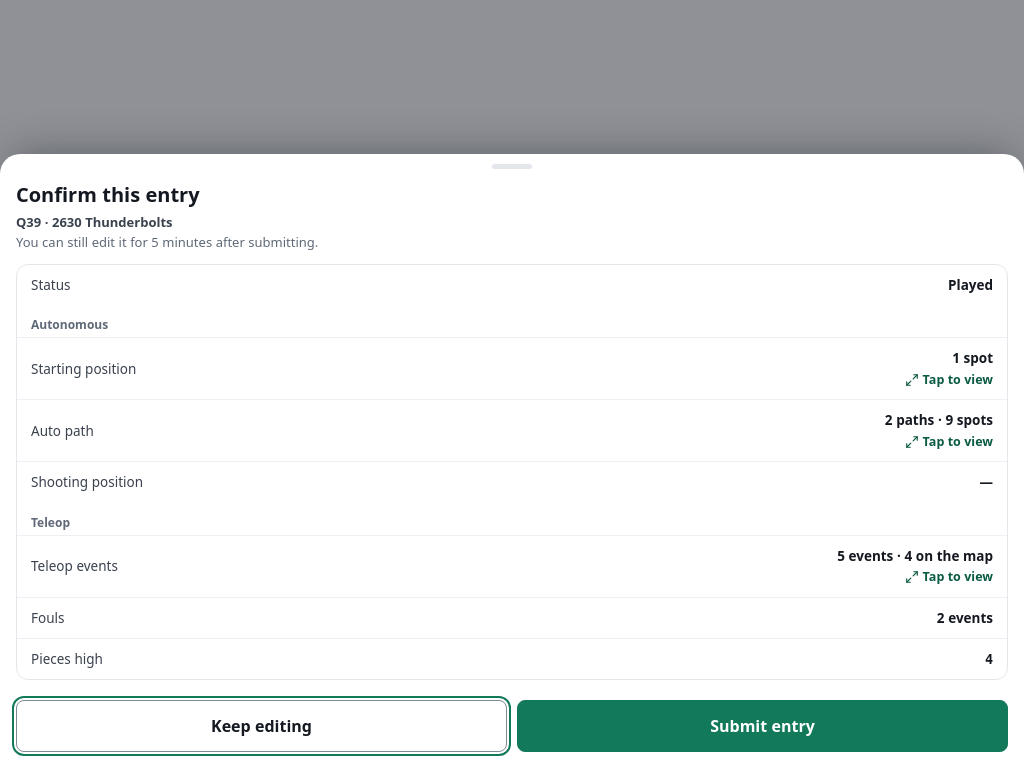
ConfirmEntry: the map, view only (UF.24) › a phone draws it full screen, the own end at the bottom, as editing does
Click the button with aria-label "Teleop events: ": (74, 566) [17, 536, 1007, 596]
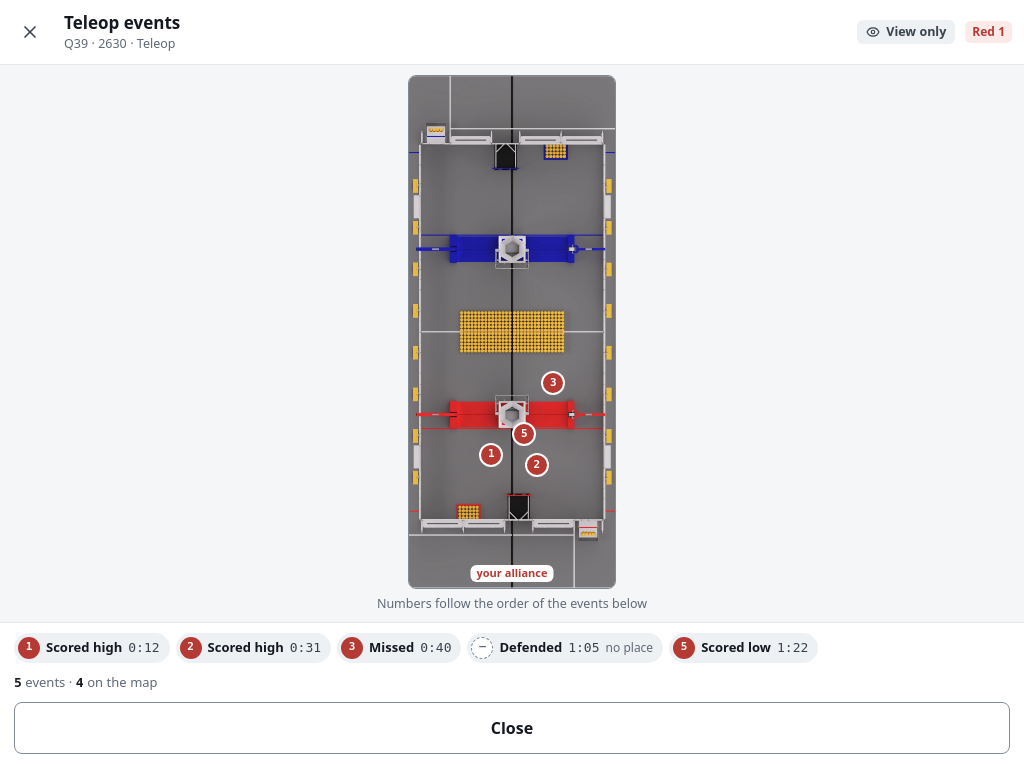
Expected: the text "View only" is shown, [857, 20, 955, 44]
Expected: the button "Close" is shown, [14, 702, 1010, 754]
